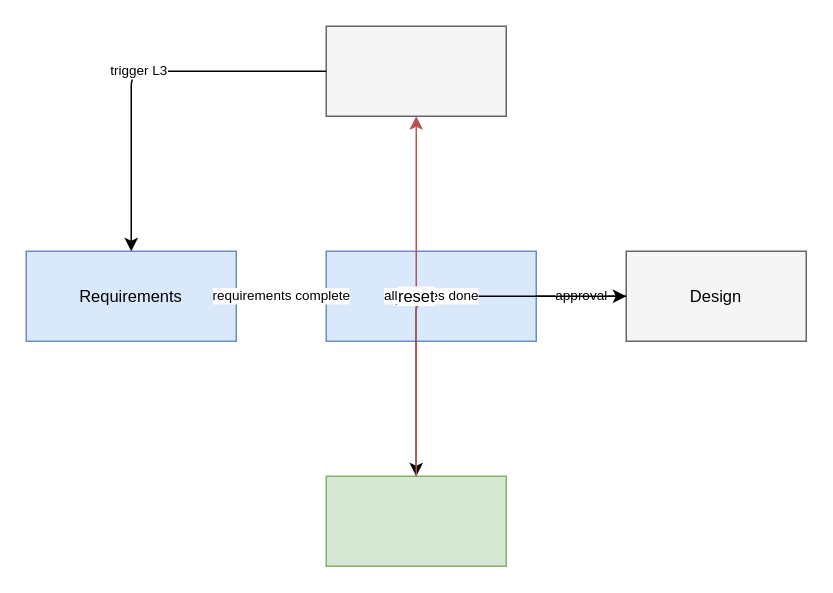
Image size: 833x593. Some labels were removed from this diagram. Each missing label, with the centre of its shape:
"Done" goes at (415,520).
"Idle" goes at (415,70).
